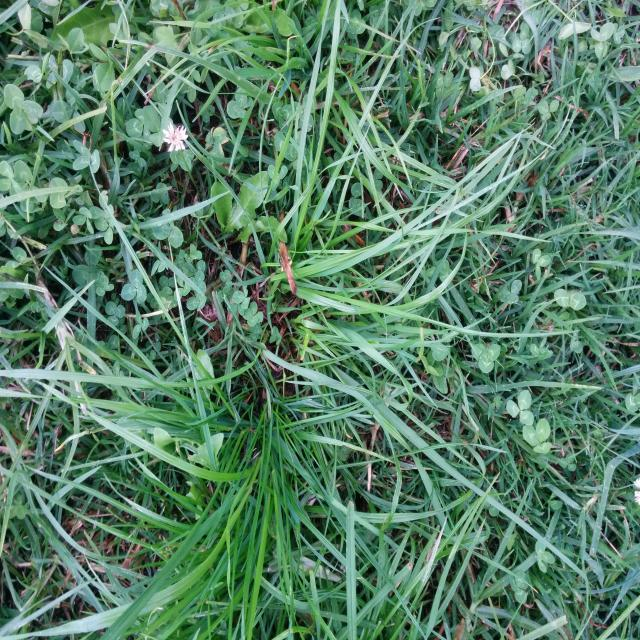Four Leaf Clover: (242, 301, 263, 327)
